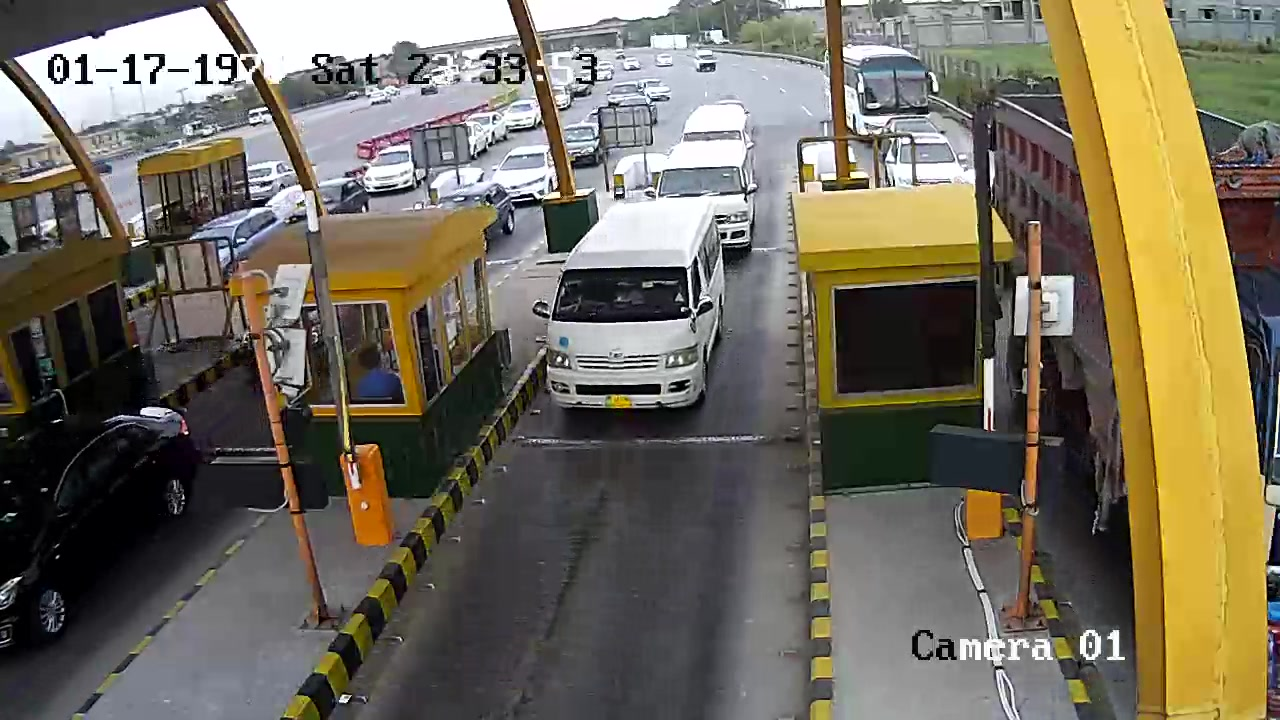F3: (545, 189, 721, 418)
